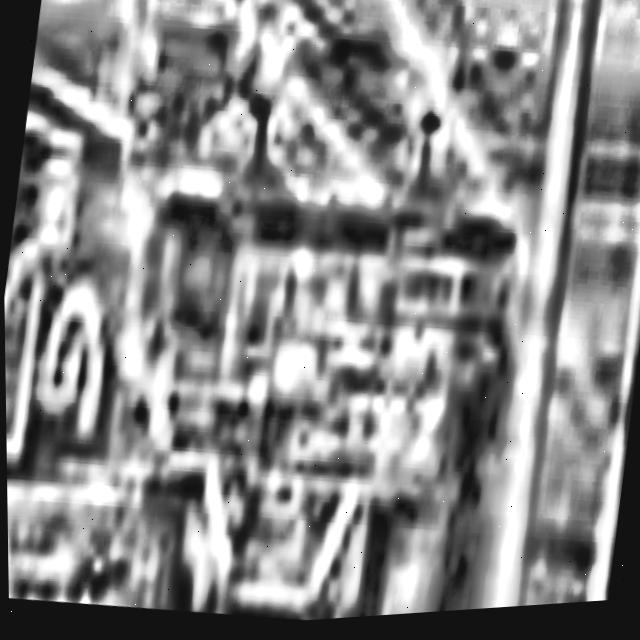dump_truck: (98, 21, 560, 635)
